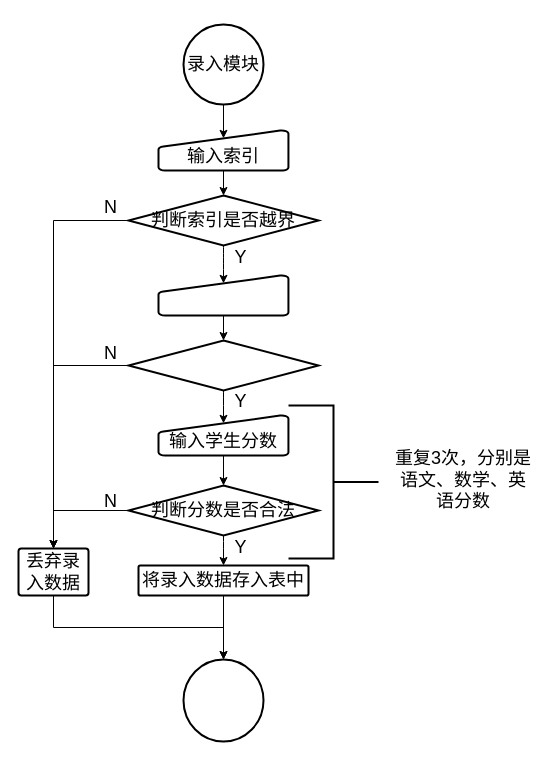
Image size: 550x760. Some labels were removed from this diagram. Here are the shapes that lost their labels. From the top down, the centre of each, then its label:
At point (223, 295): "输入学生姓名".
At point (223, 365): "判断姓名是否合法".
At point (223, 700): "模块结束".
